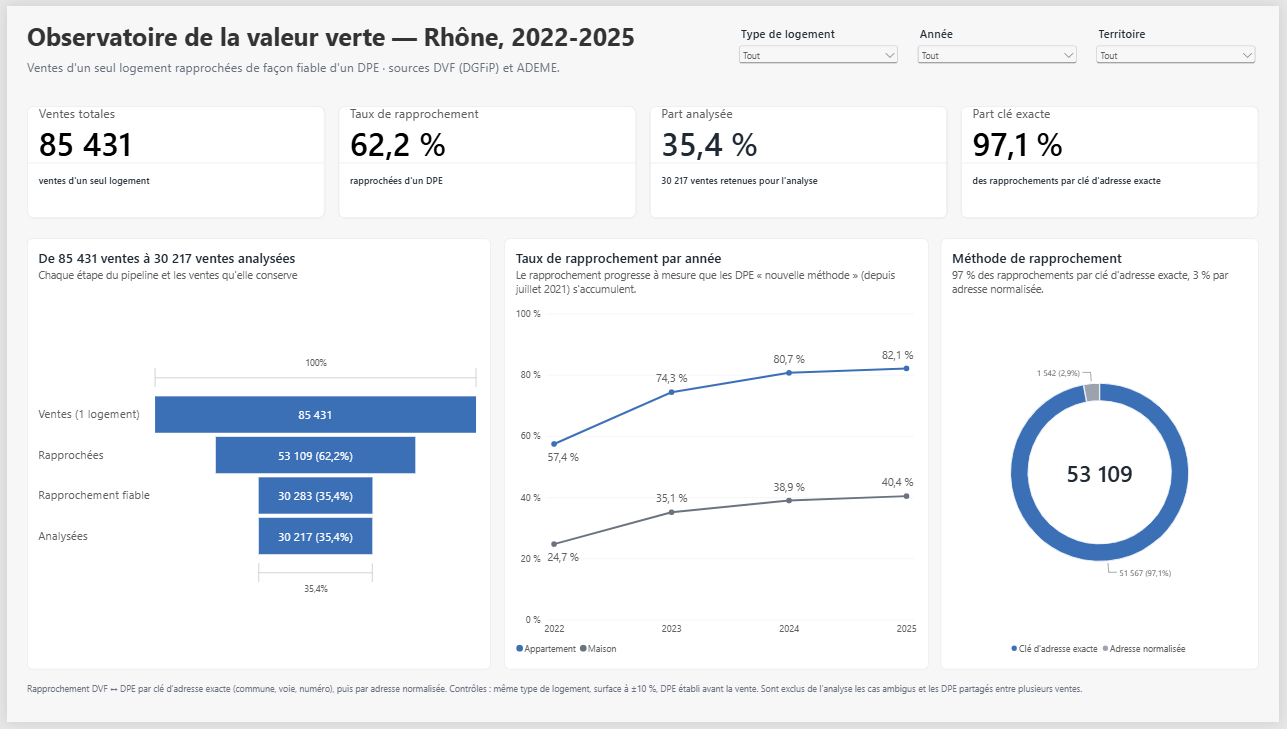

Layout of this report page (visuals, bound fields, positions):
{"tool":"powerbi","page":{"name":"Qualité des données","canvas":[1920,1080],"ordinal":2},"visuals":[{"type":"textbox","box":[30,20,1050,60],"z":0},{"type":"textbox","box":[30,80,1050,40],"z":1000},{"type":"slicer","fields":{"Values":["fait_ventes.type_logement"]},"box":[1100,30,250,75],"z":2000},{"type":"slicer","fields":{"Values":["dim_temps.annee"]},"box":[1370,30,250,75],"z":3000},{"type":"slicer","fields":{"Values":["dim_commune.Zone"]},"box":[1640,30,250,75],"z":4000},{"type":"cardVisual","fields":{"Data":["Mesures.Ventes totales (affichage)"]},"box":[30,150,450,170],"z":5000},{"type":"cardVisual","fields":{"Data":["Mesures.Taux de rapprochement"]},"box":[500,150,450,170],"z":6000},{"type":"cardVisual","fields":{"Data":["Mesures.Part analysée"]},"box":[970,150,450,170],"z":7000},{"type":"cardVisual","fields":{"Data":["Mesures.Part clé exacte"]},"box":[1440,150,450,170],"z":8000},{"type":"textbox","box":[30,1020,1777.5,27.5],"z":9000},{"type":"funnel","title":"De 85 431 ventes à 30 217 ventes analysées","fields":{"Category":["Étapes.Étape"],"Y":["Mesures.Ventes par étape"]},"box":[30,350,700,650],"z":10000},{"type":"lineChart","title":"Taux de rapprochement par année","fields":{"Category":["dim_temps.annee"],"Series":["fait_ventes.type_logement"],"Y":["Mesures.Taux de rapprochement"]},"box":[750,350,640,650],"z":10001},{"type":"donutChart","title":"Méthode de rapprochement","fields":{"Category":["fait_ventes.Méthode"],"Y":["Mesures.Ventes rapprochées"]},"box":[1410,350,480,650],"z":10002}]}

Visuals, with their boxes in screenshot pixels (x1, y1, x2, y2), scaled from the page's 1920x1080 canvas onto the 1287x729 screenshot:
textbox: (x1=20, y1=14, x2=724, y2=54)
textbox: (x1=20, y1=54, x2=724, y2=81)
slicer - fait_ventes.type_logement: (x1=737, y1=20, x2=905, y2=71)
slicer - dim_temps.annee: (x1=918, y1=20, x2=1086, y2=71)
slicer - dim_commune.Zone: (x1=1099, y1=20, x2=1267, y2=71)
cardVisual - Mesures.Ventes totales (affichage): (x1=20, y1=101, x2=322, y2=216)
cardVisual - Mesures.Taux de rapprochement: (x1=335, y1=101, x2=637, y2=216)
cardVisual - Mesures.Part analysée: (x1=650, y1=101, x2=952, y2=216)
cardVisual - Mesures.Part clé exacte: (x1=965, y1=101, x2=1267, y2=216)
textbox: (x1=20, y1=688, x2=1212, y2=707)
"De 85 431 ventes à 30 217 ventes analysées" funnel: (x1=20, y1=236, x2=489, y2=675)
"Taux de rapprochement par année" lineChart: (x1=503, y1=236, x2=932, y2=675)
"Méthode de rapprochement" donutChart: (x1=945, y1=236, x2=1267, y2=675)
